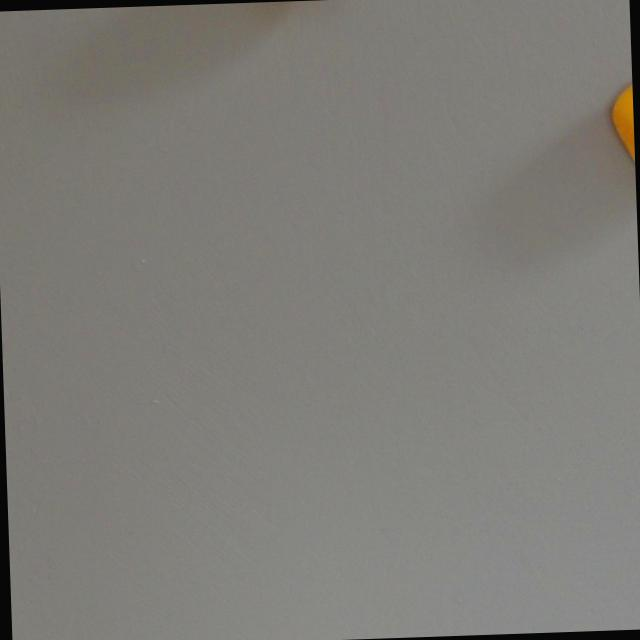pelicula: (609, 65, 636, 188)
